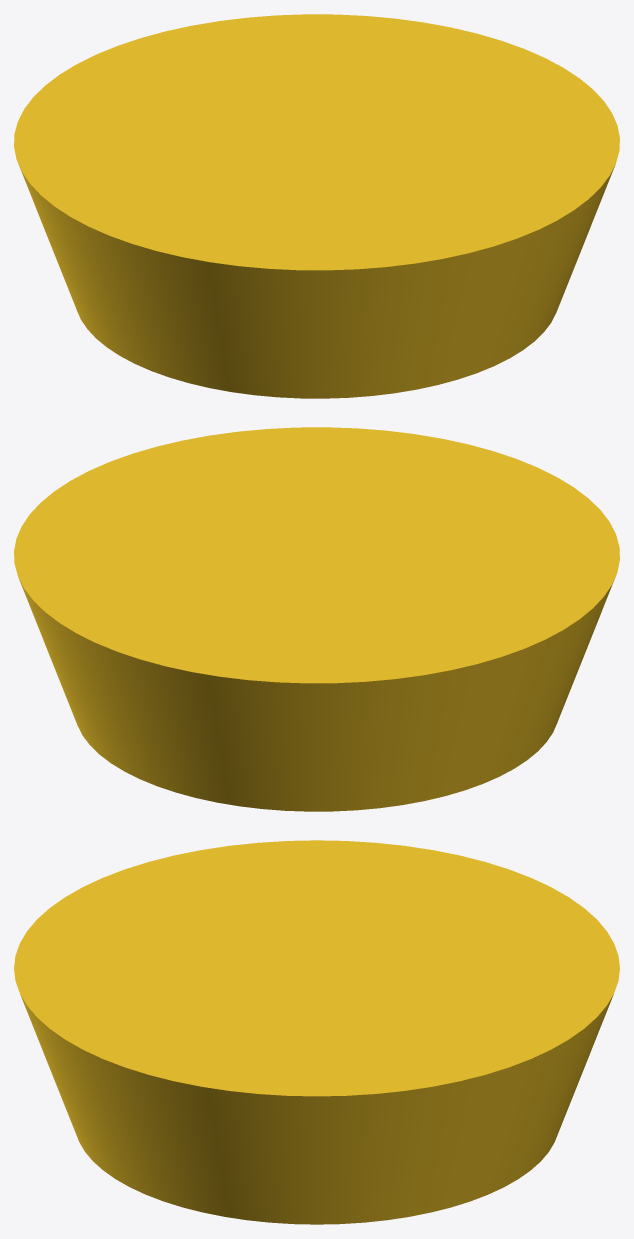
The model's file is checkers_crown.glb.
3 renders of one model, top to bottom at view 1: azimuth 30°, elevation 25°; view 2: azimuth 150°, elevation 25°; view 3: azimuth 270°, elevation 25°, orthographic.
Visible parts, largest first — view 1: CrownBand; view 2: CrownBand; view 3: CrownBand.
Boxes of the visible parts, left/top/right/bottom form: CrownBand: left=14, top=14, right=619, bottom=398; CrownBand: left=14, top=427, right=619, bottom=811; CrownBand: left=14, top=840, right=619, bottom=1224.
Size of the model in its own units: 0.5 by 0.14 by 0.5.
